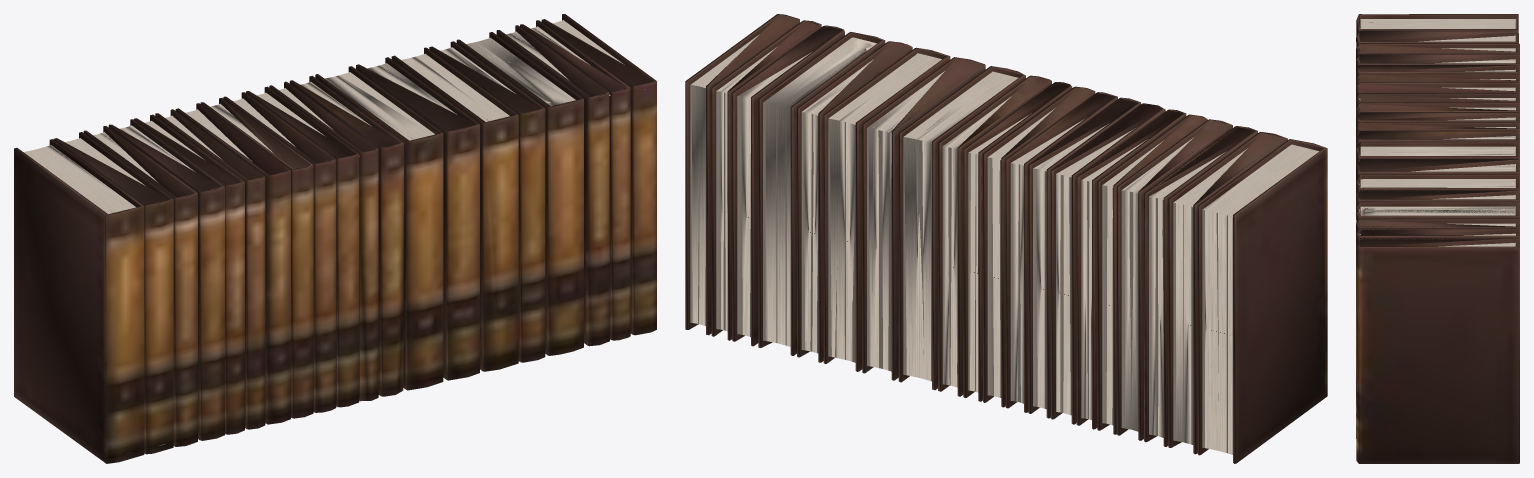
File: book_encyclopedia_set_01.glb
The picture shows the model from 3 angles, left to right: view 1: azimuth 30°, elevation 25°; view 2: azimuth 150°, elevation 25°; view 3: azimuth 270°, elevation 25°; orthographic projection. The views are drawn at different scales.
Parts seen in each view (by area): view 1: book_encyclopedia_set_01_book01, book_encyclopedia_set_01_book01_lo; view 2: book_encyclopedia_set_01_book01_lo, book_encyclopedia_set_01_book01; view 3: book_encyclopedia_set_01_book01, book_encyclopedia_set_01_book01_lo.
Boxes of the visible parts, x1=… form: book_encyclopedia_set_01_book01: x1=24, y1=14, x2=656, y2=463; book_encyclopedia_set_01_book01_lo: x1=14, y1=14, x2=655, y2=463; book_encyclopedia_set_01_book01_lo: x1=685, y1=14, x2=1327, y2=463; book_encyclopedia_set_01_book01: x1=685, y1=14, x2=1327, y2=463; book_encyclopedia_set_01_book01: x1=1356, y1=14, x2=1519, y2=463; book_encyclopedia_set_01_book01_lo: x1=1356, y1=14, x2=1518, y2=463.
Bounding box in the file's own units: 0.5513 × 0.2374 × 0.1631.
2 materials, 2 textured.
